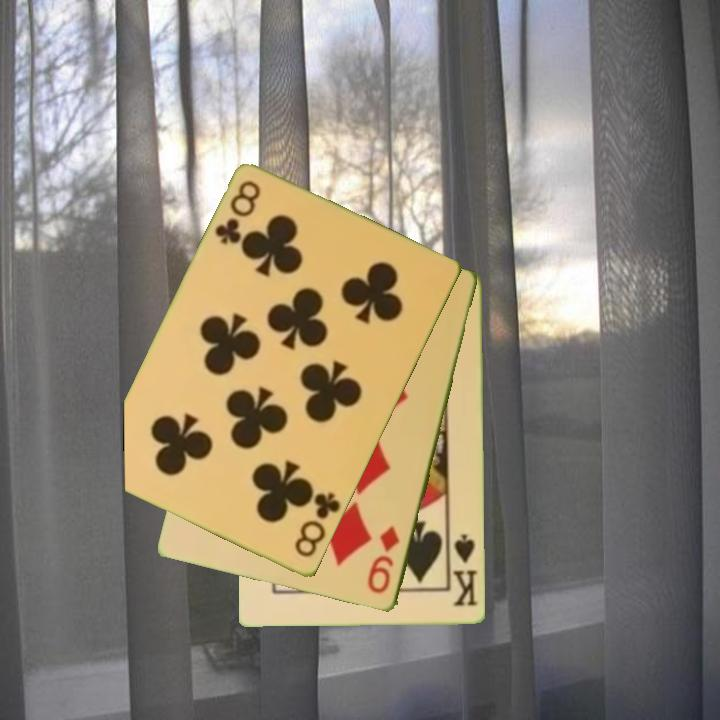8c: (291, 489, 344, 561), (211, 177, 264, 248)
9d: (364, 522, 403, 597)
Ks: (447, 531, 480, 609)
